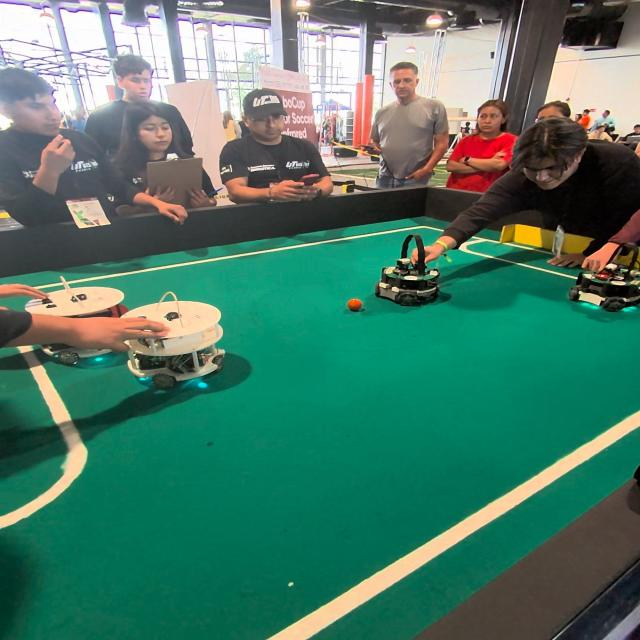Robot: (126, 284, 255, 402), (30, 272, 121, 370), (378, 225, 464, 309), (566, 237, 640, 324)
pelota: (348, 300, 363, 310)
